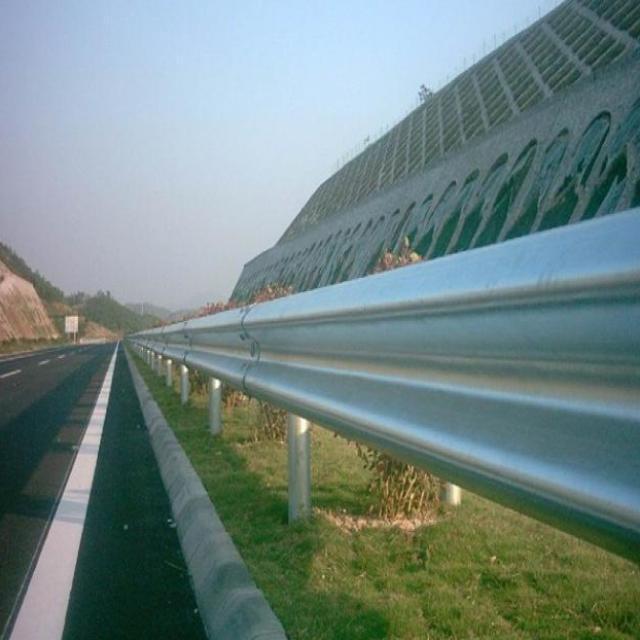Guard rail: (135, 207, 640, 561)
